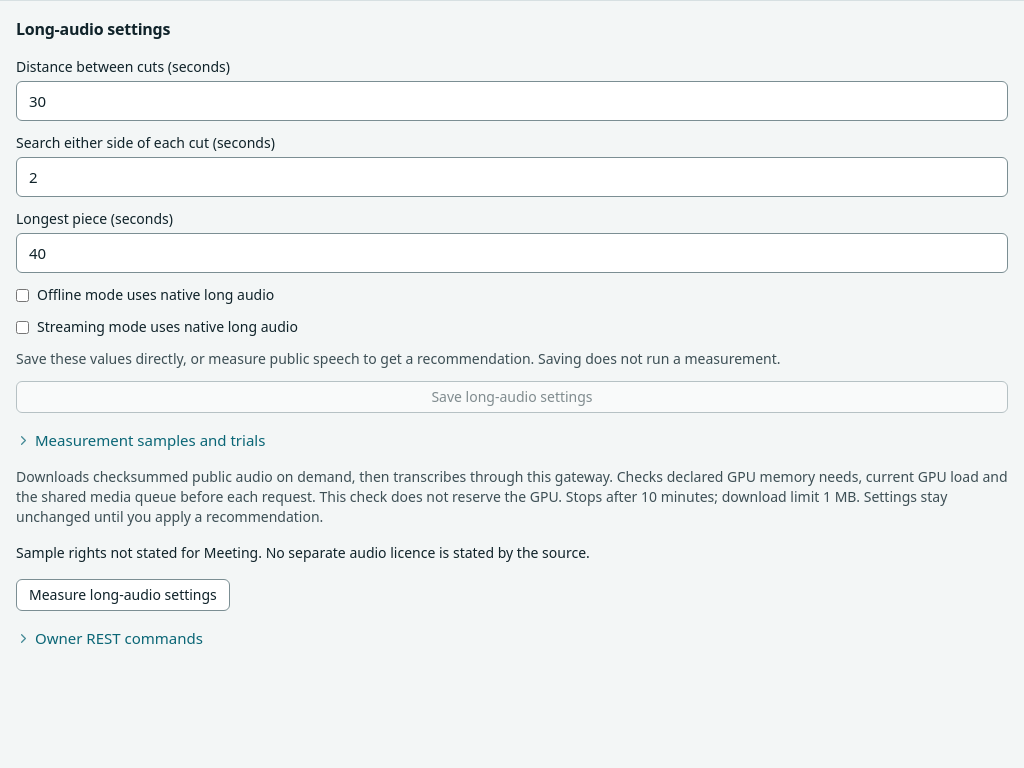
Scenario: does not pin a default when an edit is returned to its original effective value
Replace the text in the number field labelled "Search either side of each cut (seconds)" with "5" at [512, 177], box [16,157,1008,197]
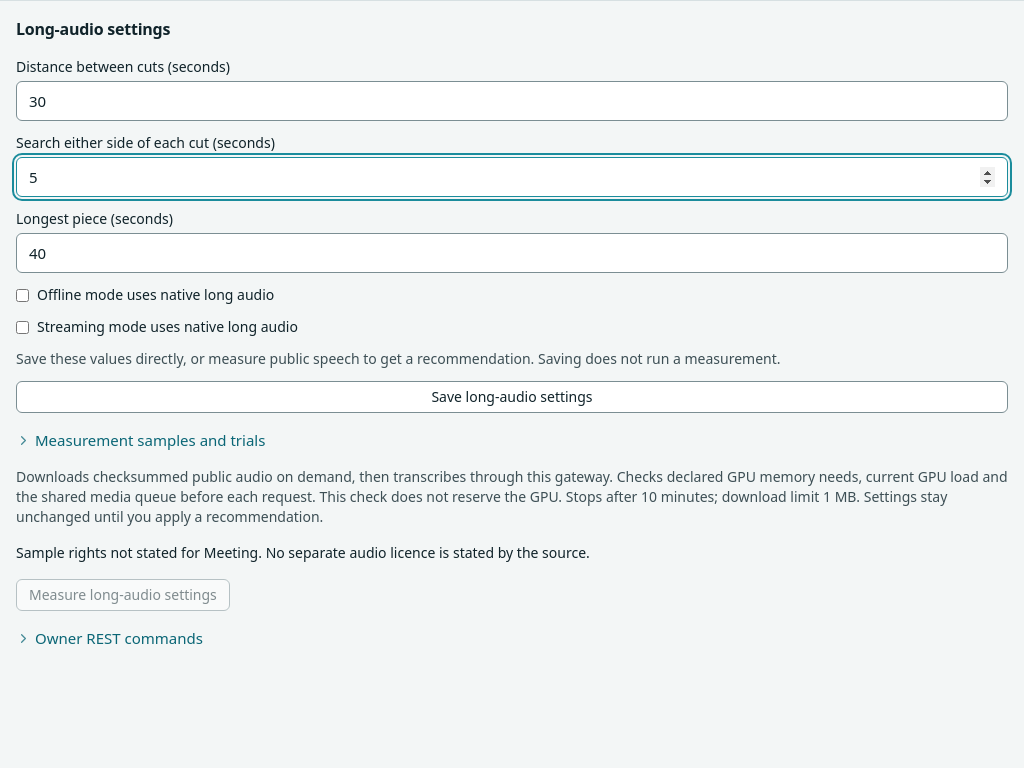
Replace the text in the number field labelled "Search either side of each cut (seconds)" with "2" at [512, 177], box [16,157,1008,197]
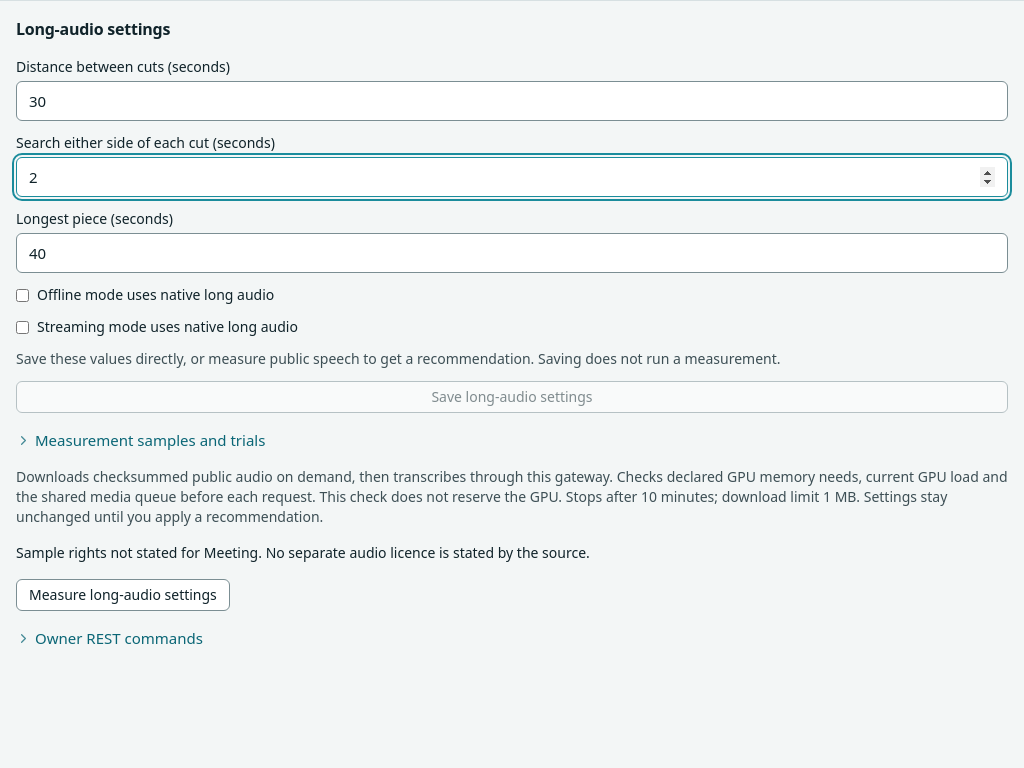
Now the button "Save long-audio settings" is disabled, box [16,381,1008,413]
